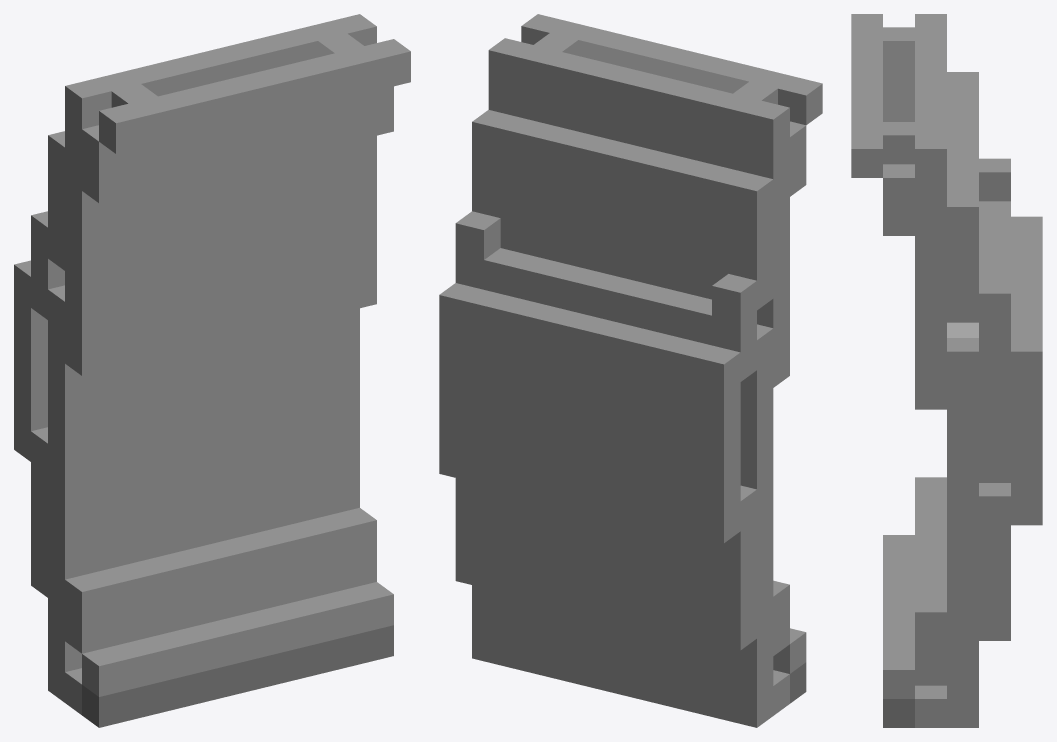
The model's file is plane_window_02.obj.
The picture shows the model from 3 angles, left to right: view 1: azimuth 30°, elevation 25°; view 2: azimuth 150°, elevation 25°; view 3: azimuth 270°, elevation 25°; orthographic projection. The views are drawn at different scales.
Size of the model in its own units: 1 by 2 by 0.6.
1 material, 1 textured.
